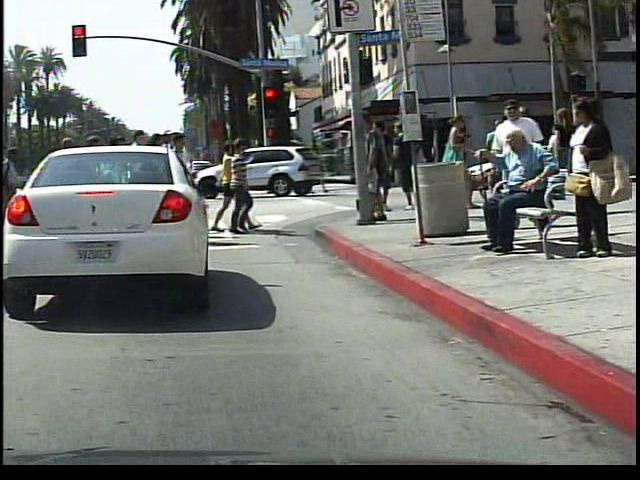person: (468, 125, 562, 256), (552, 92, 614, 269), (428, 108, 475, 213), (298, 145, 323, 196)
